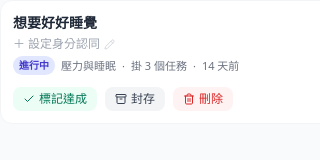
Scenario: MyAspirationsTab — actions › 標記達成 PATCHes status=achieved + reloads
What coordinates should you click on to do the following:
click the button "標記達成"
I would click on:
 (55, 99)
Its box is [13, 87, 97, 111].
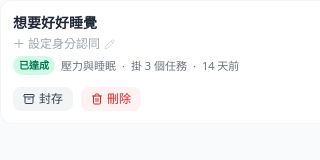
Now the button "標記達成" is gone
